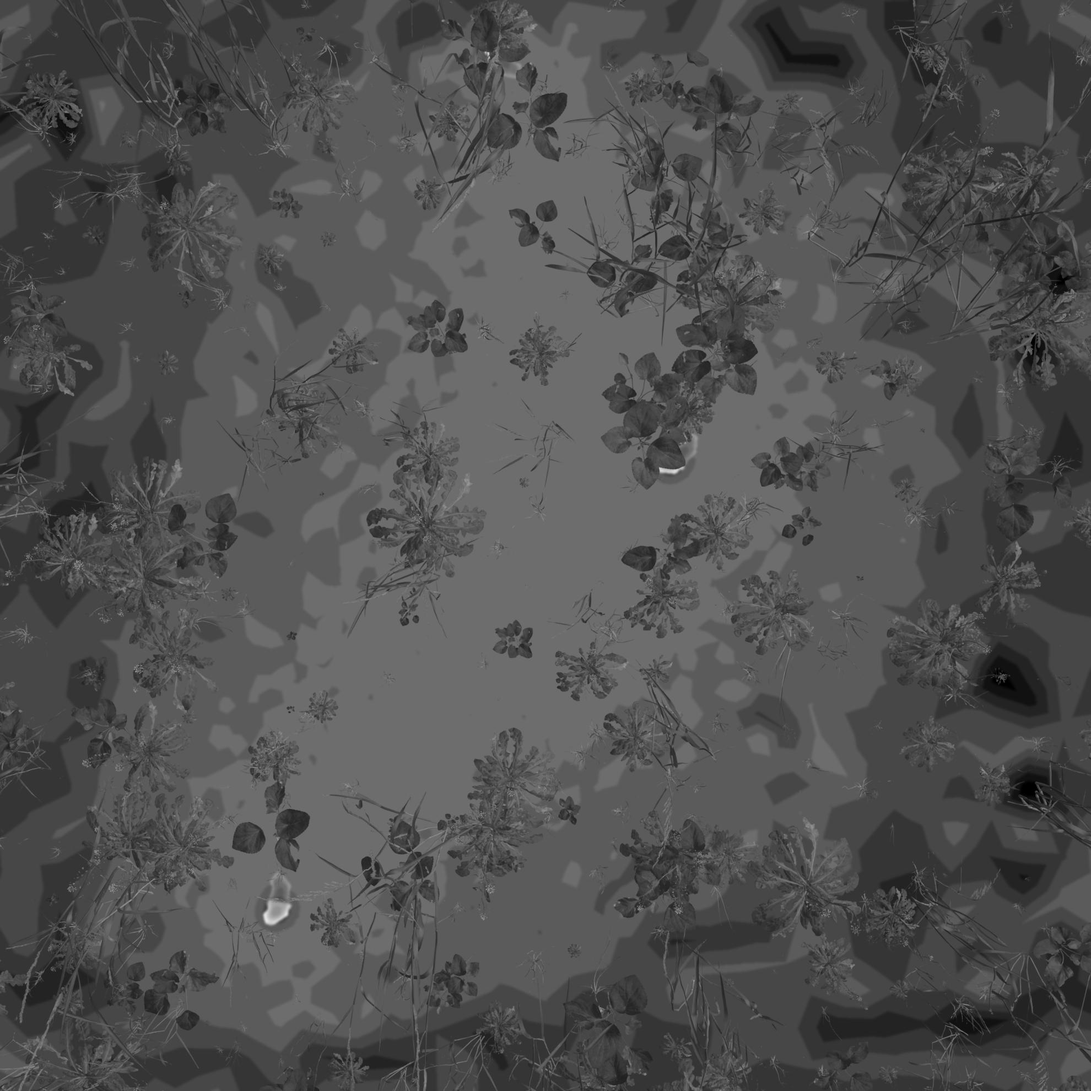landmine: (257, 869, 300, 931)
